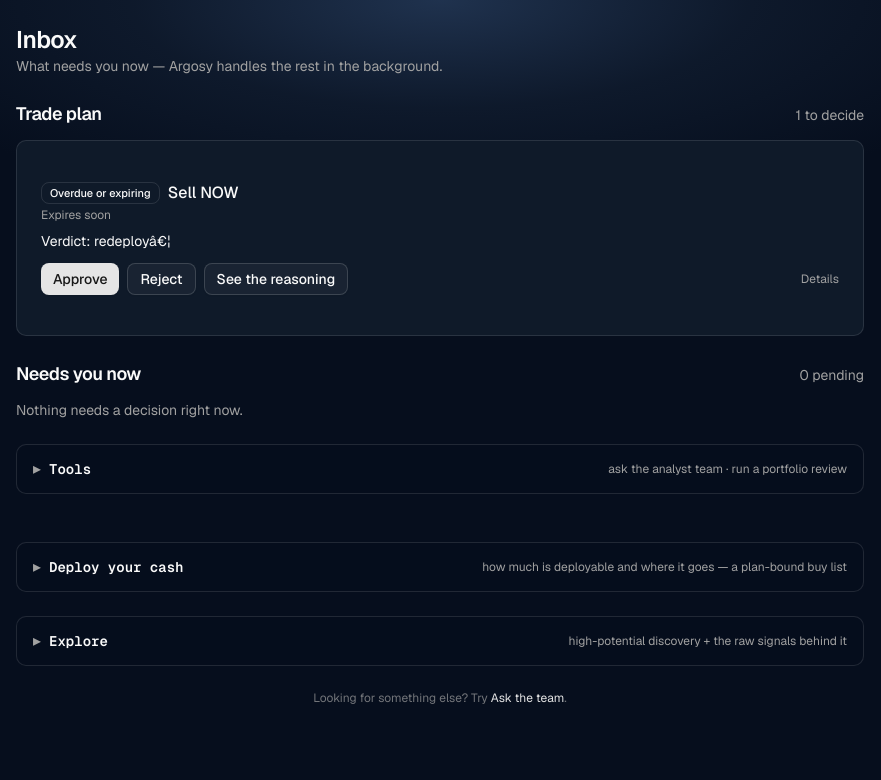
Test: inbox 'See the reasoning' › opens the reasoning trail and scrolls it into view
Click the button "See the reasoning": (276, 279) [204, 263, 348, 295]
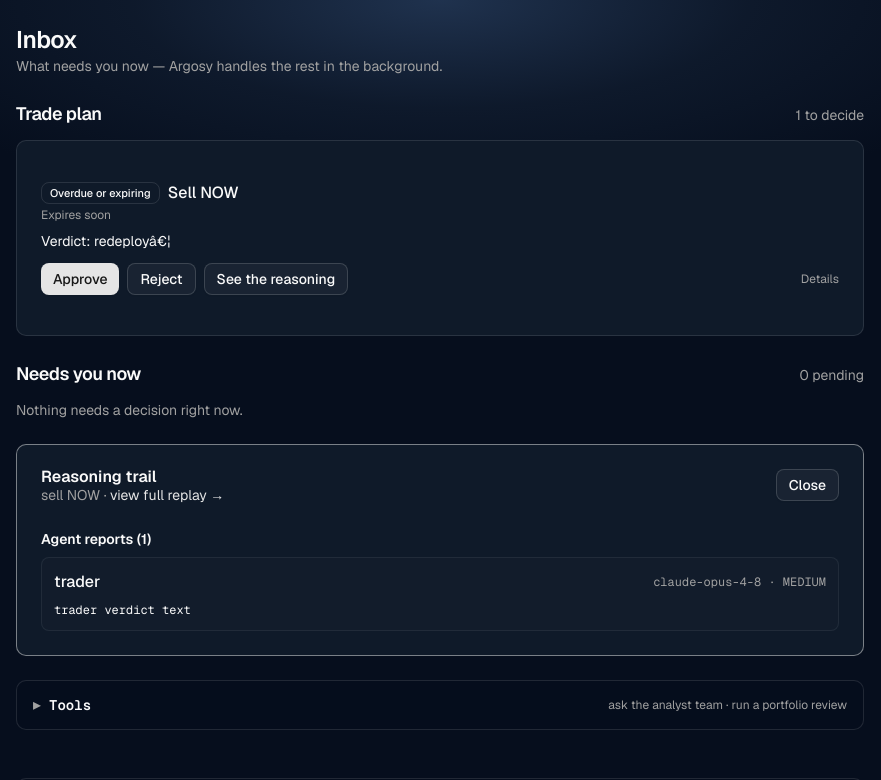
Result: the text "Reasoning trail" is shown at [41, 466, 156, 487]
Result: the text "trader verdict text" is shown at [54, 602, 191, 618]
